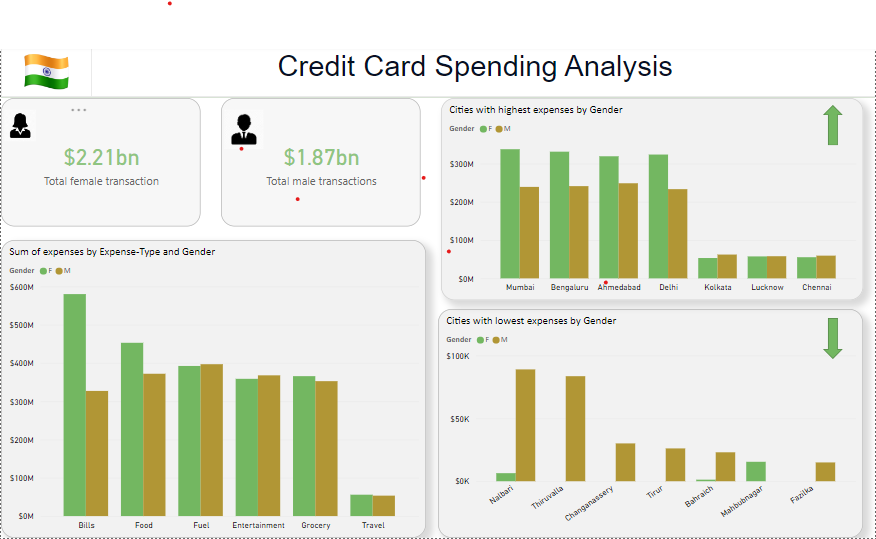

The page's visual inventory and layout, read from the dashboard file:
{"tool":"powerbi","page":{"name":"Gender","canvas":[1280,720],"ordinal":1},"visuals":[{"type":"shape","box":[0,0,1280,75],"z":0,"group":"g1"},{"type":"clusteredColumnChart","title":"Cities with lowest expenses by Gender","fields":{"Category":["Credit card transactions - India - Simple.City"],"Y":["Sum(Credit card transactions - India - Simple.Amount)"],"Series":["Credit card transactions - India - Simple.Gender"]},"box":[639.5,384.9,622,335.1],"z":0},{"type":"image","box":[0,0,133.3,75],"z":1000,"group":"g1"},{"type":"clusteredColumnChart","title":"Cities with highest expenses by Gender","fields":{"Category":["Credit card transactions - India - Simple.City"],"Y":["Sum(Credit card transactions - India - Simple.Amount)"],"Series":["Credit card transactions - India - Simple.Gender"]},"box":[643.9,76.1,617.6,295.6],"z":1000},{"type":"textbox","box":[400,0,616.7,75],"z":2000,"group":"g1"},{"type":"group","id":"g1","title":"Banner","box":[0,0,1280,75],"z":4000},{"type":"card","fields":{"Values":["Credit card transactions - India - Simple.total_sales"]},"box":[0,75.6,292.3,188.1],"z":4001},{"type":"card","fields":{"Values":["Credit card transactions - India - Simple.total_sales"]},"box":[322.5,75.6,292.3,188.1],"z":4002},{"type":"clusteredColumnChart","title":"Sum of expenses by Expense-Type and Gender","fields":{"Category":["Credit card transactions - India - Simple.Exp Type"],"Y":["Sum(Credit card transactions - India - Simple.Amount)"],"Series":["Credit card transactions - India - Simple.Gender"]},"box":[0,283.9,622,436.1],"z":4003},{"type":"image","box":[322,86.3,67.3,70.2],"z":4004},{"type":"image","box":[0,86.3,55.6,58.5],"z":4005},{"type":"shape","box":[1202.9,86.3,29.3,58.5],"z":4006},{"type":"shape","box":[1202.9,398,29.3,60],"z":4007}]}

Visuals, with their boxes on the page's 1280x720 design canvas (x1, y1, x2, y2). These are canvas units, not pixel positions in the 876x539 screenshot, which may show the page scaled, cropped or inside an application window:
shape: <box>0,0,1280,75</box>
"Cities with lowest expenses by Gender" clusteredColumnChart: <box>640,385,1262,720</box>
image: <box>0,0,133,75</box>
"Cities with highest expenses by Gender" clusteredColumnChart: <box>644,76,1262,372</box>
textbox: <box>400,0,1017,75</box>
"Banner" group: <box>0,0,1280,75</box>
card - Credit card transactions - India - Simple.total_sales: <box>0,76,292,264</box>
card - Credit card transactions - India - Simple.total_sales: <box>322,76,615,264</box>
"Sum of expenses by Expense-Type and Gender" clusteredColumnChart: <box>0,284,622,720</box>
image: <box>322,86,389,156</box>
image: <box>0,86,56,145</box>
shape: <box>1203,86,1232,145</box>
shape: <box>1203,398,1232,458</box>
